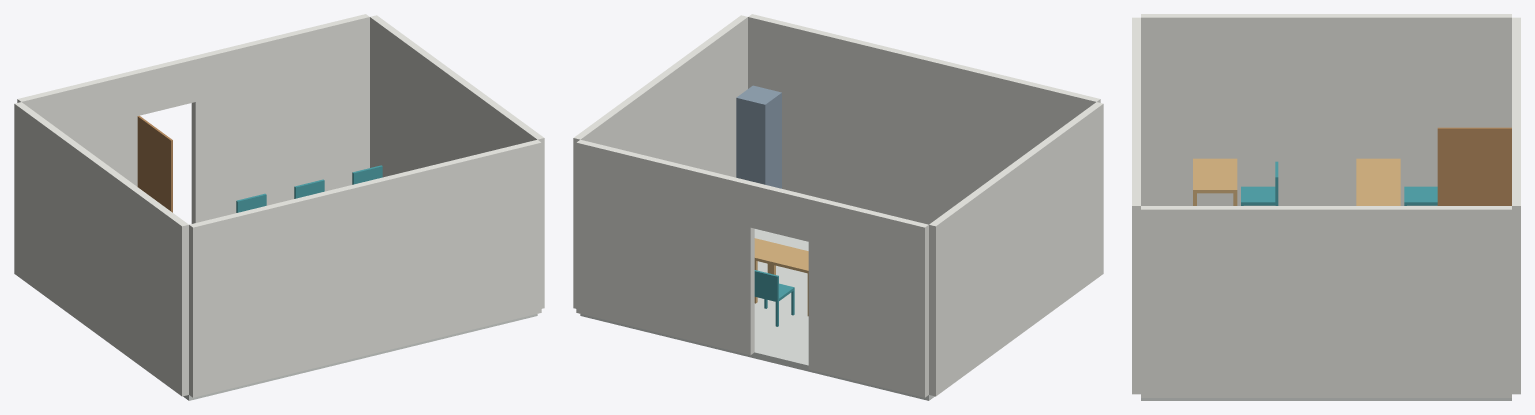
3 views of the same model, side by side, from view 1: azimuth 30°, elevation 25°; view 2: azimuth 150°, elevation 25°; view 3: azimuth 270°, elevation 25° (orthographic). The views are drawn at different scales.
Visible parts, largest first — view 1: room:north:full, room:west:full, room:south:high, room:east:full, room:south:low, room:south:lintel, door:leaf, room:floor; view 2: room:north:full, room:south:high, room:west:full, room:south:low, room:east:full, room:floor, obstacle:corner-cabinet, room:south:lintel, seat-3:table:top, seat-3:chair:back; view 3: room:east:full, room:west:full, door:leaf, room:north:full, room:south:high, seat-6:table:top, seat-1:table:top, room:floor, seat-2:table:top, seat-6:chair:seat, seat-1:chair:seat, room:south:low.
Part boxes in pixels (x1,y1,x2,y2): room:north:full: (189,139,541,397); room:west:full: (14,102,188,396); room:south:high: (191,14,369,223); room:east:full: (370,15,544,308); room:south:low: (17,70,137,186); room:south:lintel: (134,56,195,115); door:leaf: (137,115,172,212); room:floor: (183,314,537,400); room:north:full: (748,14,1100,224); room:south:high: (576,139,754,355); room:west:full: (929,102,1103,396); room:south:low: (808,196,928,397); room:east:full: (573,15,747,308); room:floor: (580,229,934,400); obstacle:corner-cabinet: (736,85,781,188); room:south:lintel: (750,182,812,241); seat-3:table:top: (754,242,808,273); seat-3:chair:back: (754,270,778,299); room:east:full: (1141,206,1511,397); room:west:full: (1141,14,1511,205); door:leaf: (1437,127,1511,205); room:north:full: (1132,17,1140,394); room:south:high: (1512,112,1520,394); seat-6:table:top: (1193,158,1237,193); seat-1:table:top: (1356,158,1400,189); room:floor: (1141,398,1511,400); seat-2:table:top: (1356,190,1400,205); seat-6:chair:seat: (1241,186,1278,205); seat-1:chair:seat: (1404,186,1437,205); room:south:low: (1512,17,1520,80).
Size of the model in its own units: 6.24 by 2.9 by 5.24.
